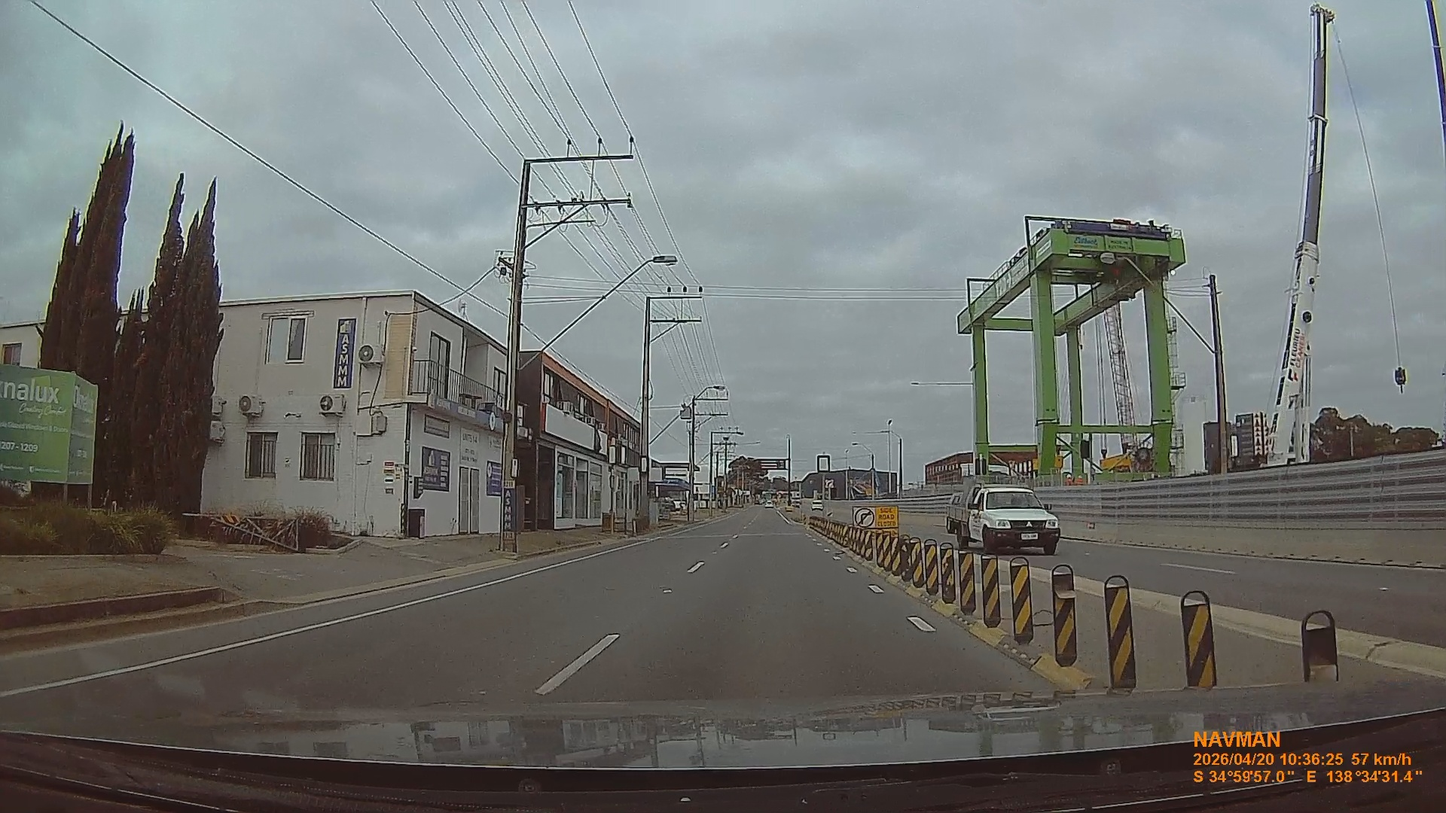fences: (1035, 451, 1445, 565)
